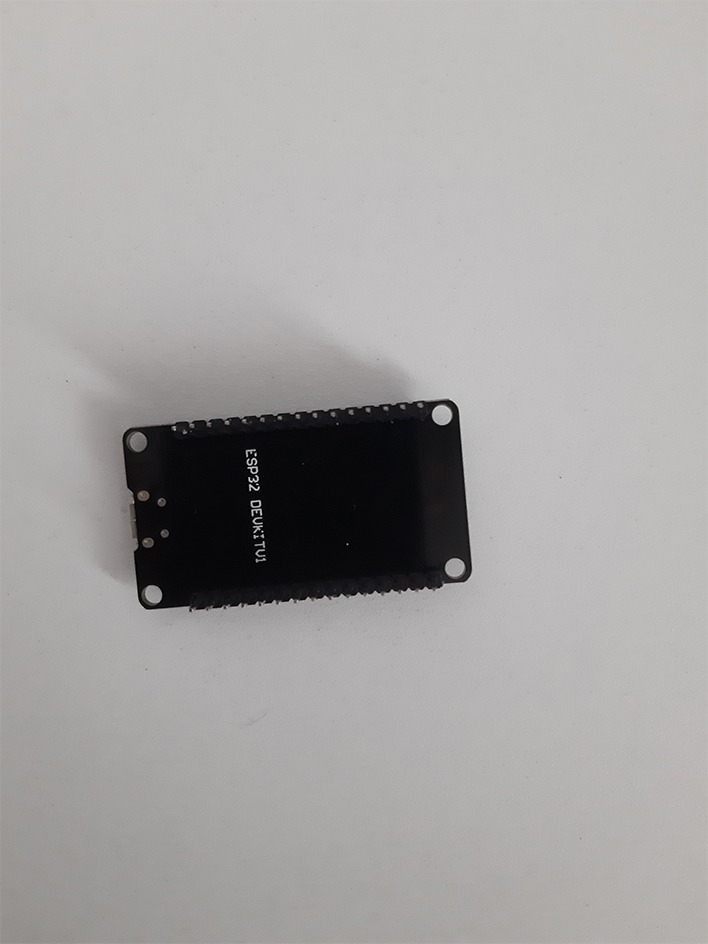ESP32-WROOM: (91, 375, 502, 628)
